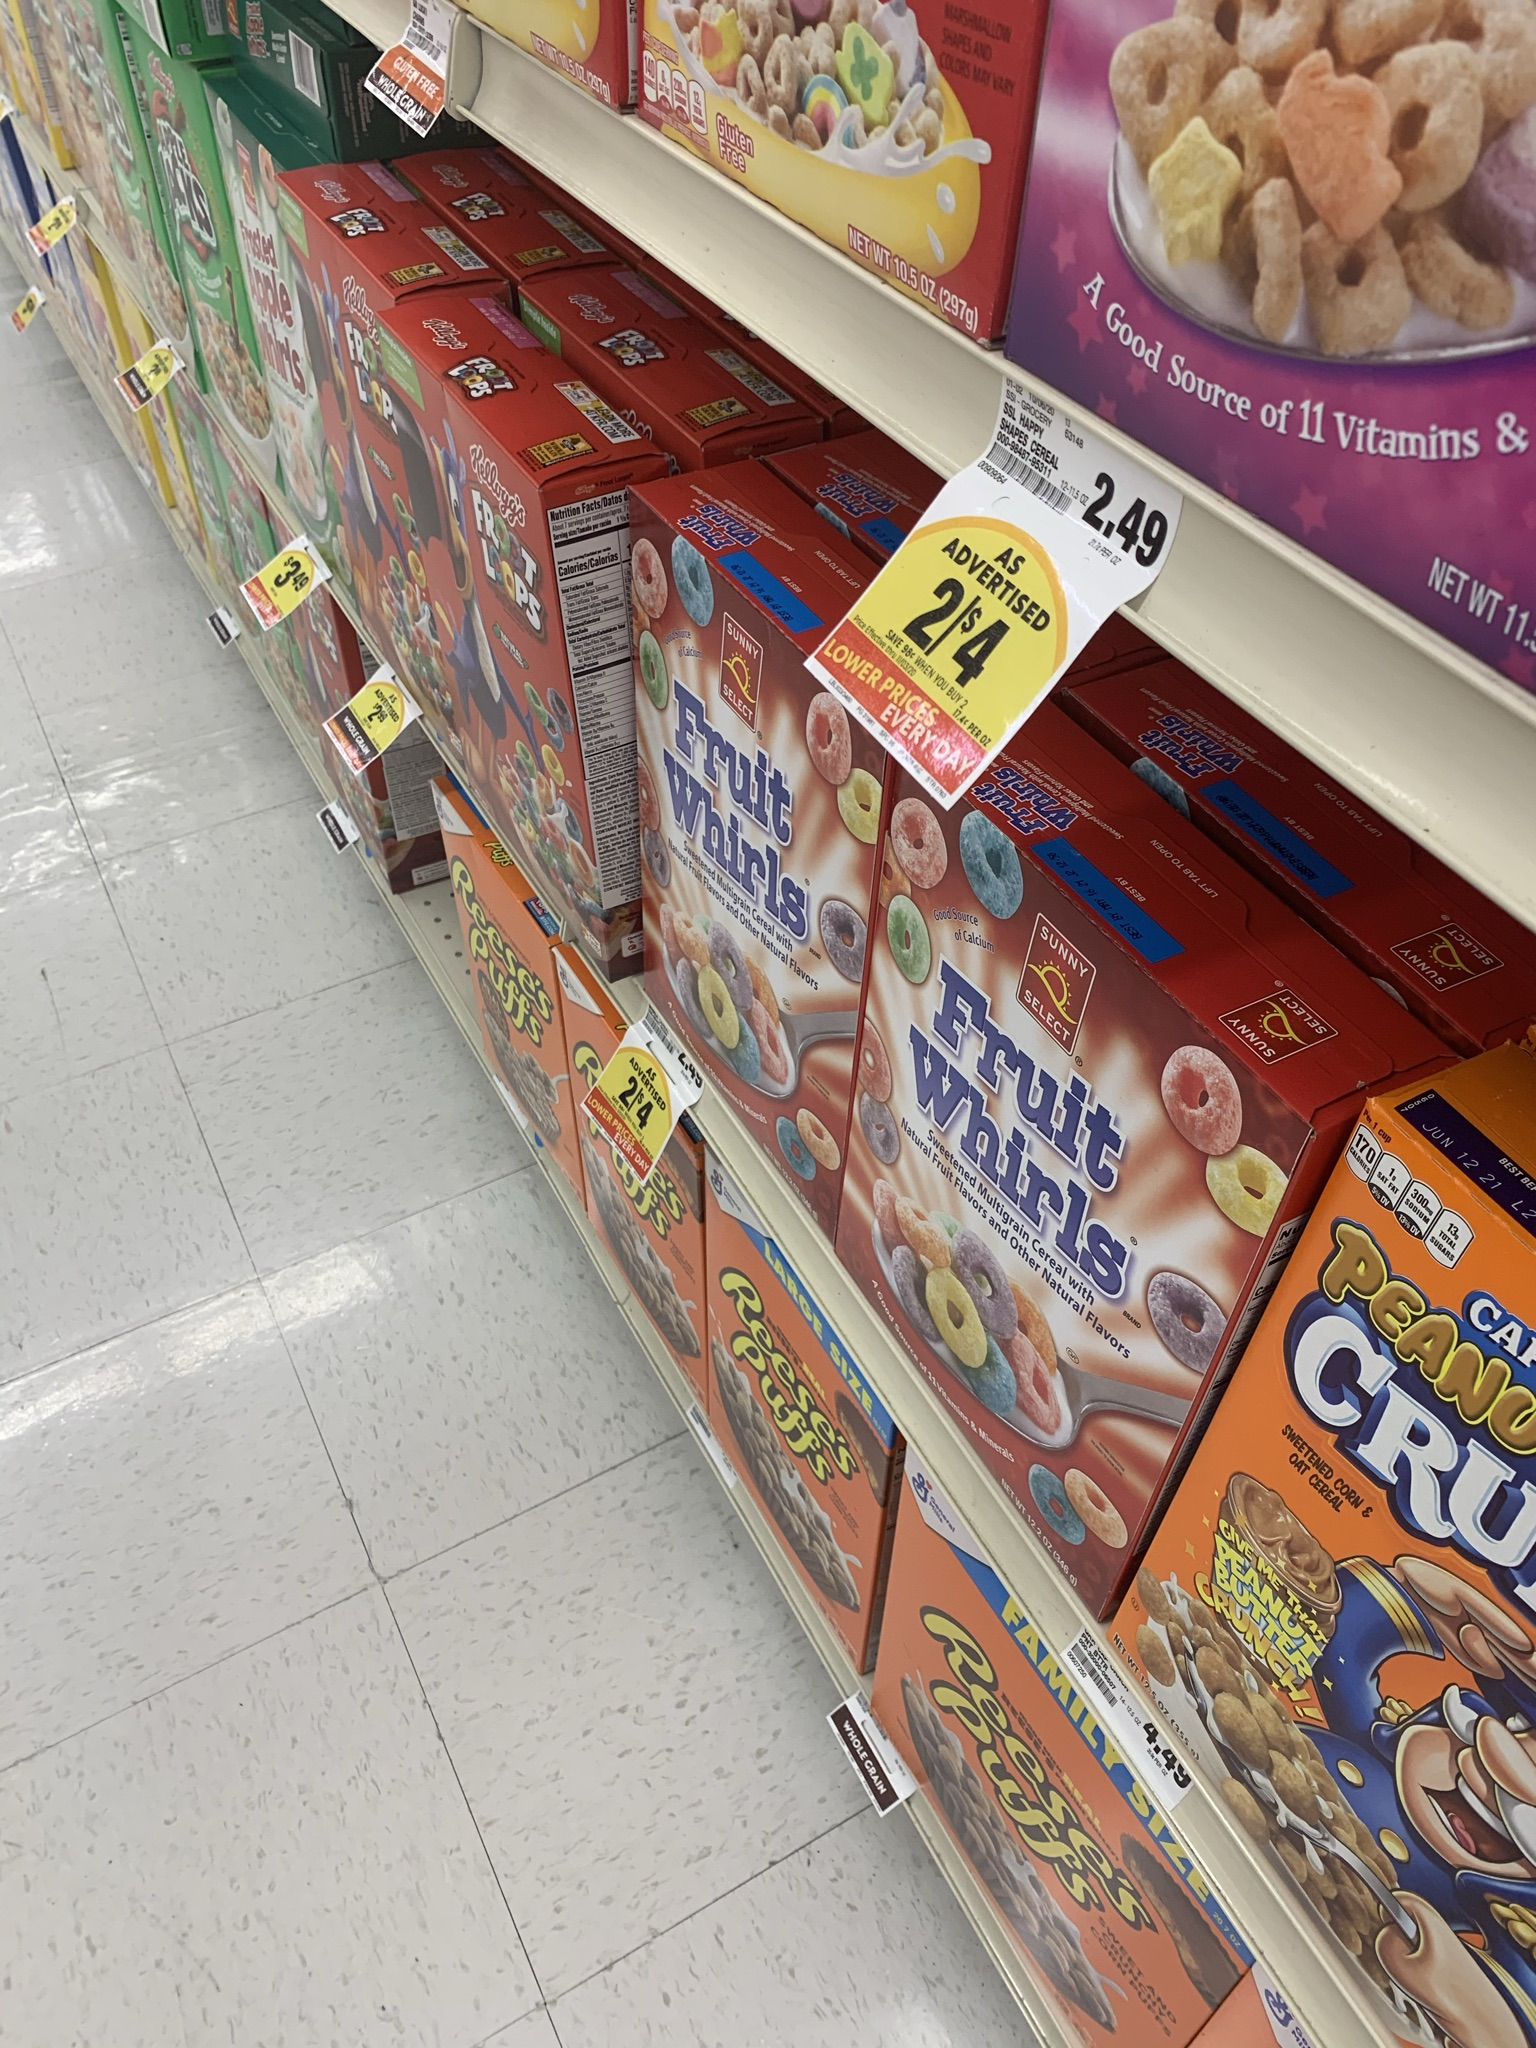box: (1291, 1226, 1536, 1913), (871, 876, 1249, 1313), (645, 685, 829, 989), (465, 497, 594, 785)
